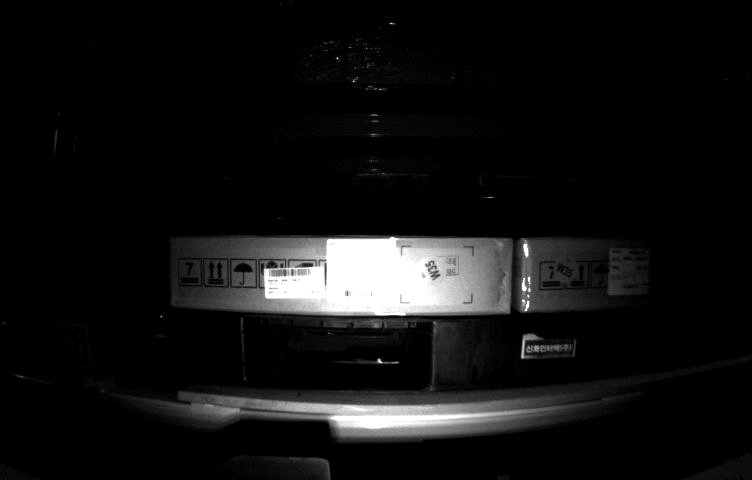True Barcode: (606, 246, 651, 295)
